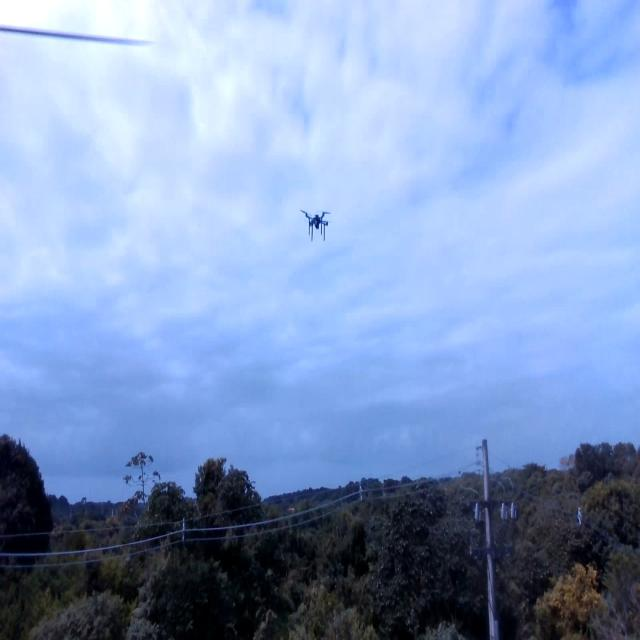-uav-: (299, 197, 334, 256)
